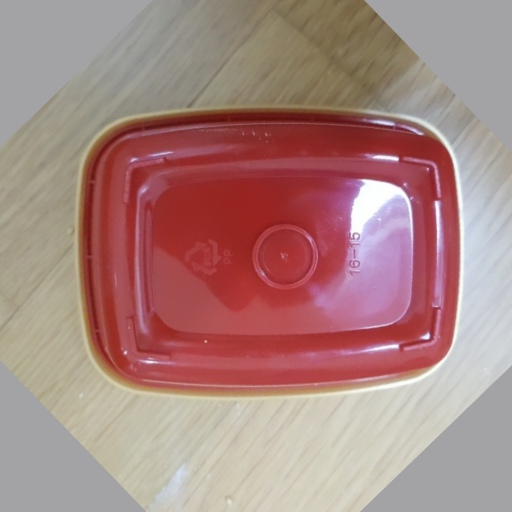Plastic_4: (77, 104, 462, 401)
